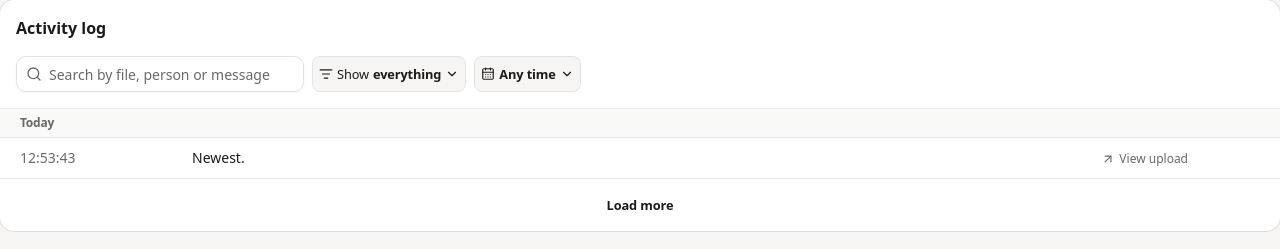
Test case: ActivityLog › loads older events a page at a time
Click the button "Load more": (640, 205) [596,191,684,219]
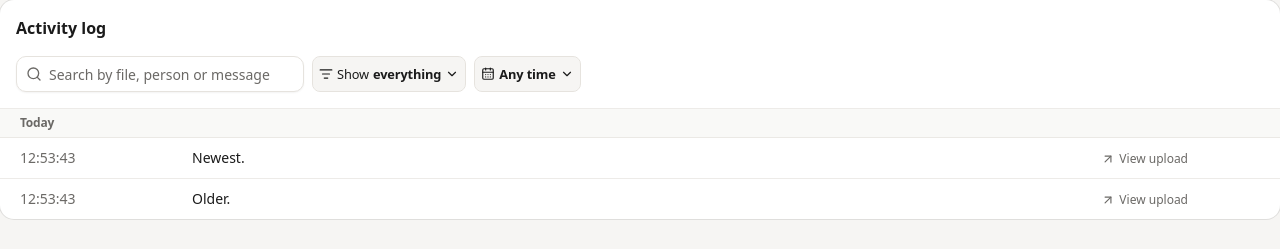
Expected: the text "Newest." is shown, [192,148,245,167]
Expected: the text "Older." is shown, [192,189,230,208]
Expected: the button "Load more" is gone
